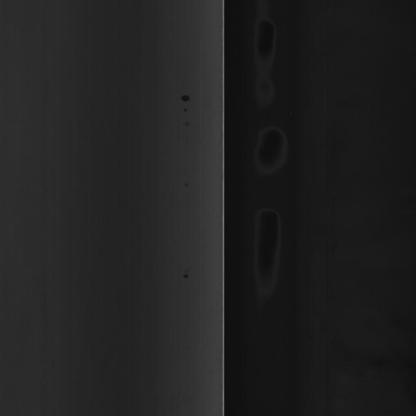oil_spot: (179, 76, 197, 144), (179, 260, 198, 291)
